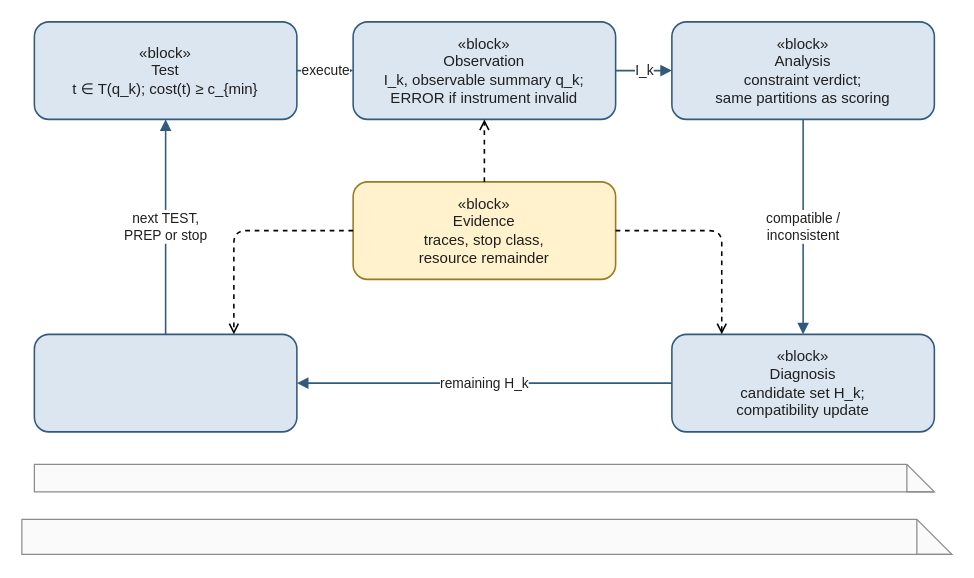
Image size: 974x578. Some labels were removed from this diagram. Here are the shapes that lost their labels. From the top down, the centre of each, then its label:
At point (165, 382): "«block» Selection one-step min-max s(t); PREP / RECOVER actions".
At point (483, 477): "Blocks are logical classifiers, not implemented modules.".
At point (486, 536): "Legend: directed association; «trace» dependency; analysis core".
